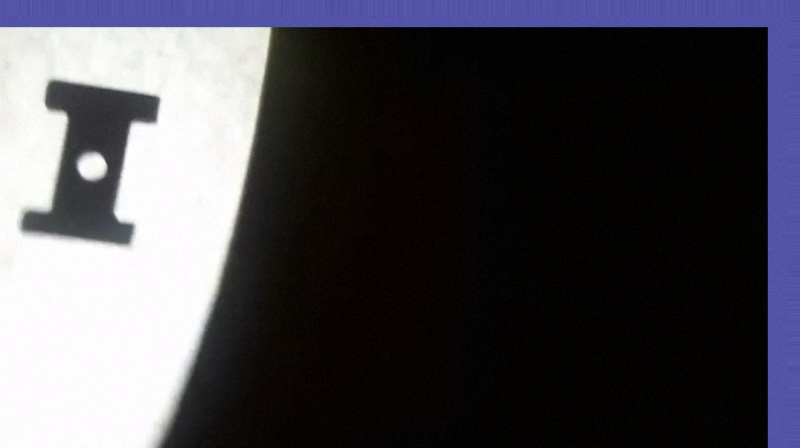O002: (17, 75, 165, 248)
